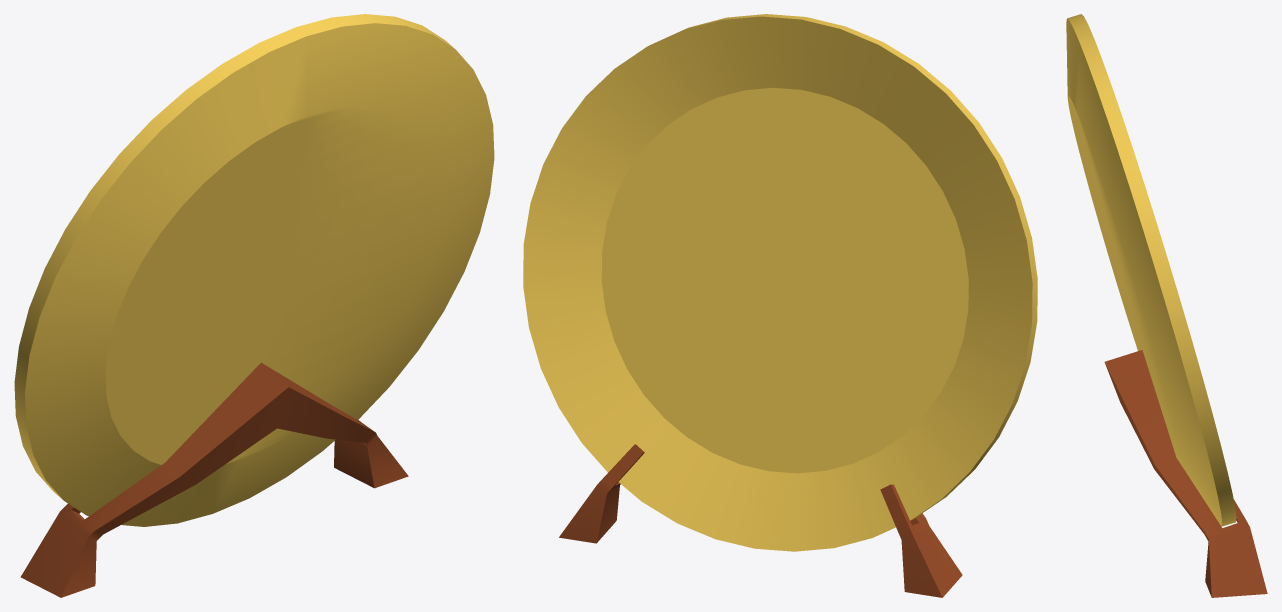
Rendered from Award_3.fbx.
3 renders of one model, left to right at view 1: azimuth 30°, elevation 25°; view 2: azimuth 150°, elevation 25°; view 3: azimuth 270°, elevation 25°, orthographic. The views are drawn at different scales.
Visible parts, largest first — view 1: Award_3; view 2: Award_3; view 3: Award_3.
Part boxes in pixels (<box>): Award_3: <box>14,14,494,597</box>; Award_3: <box>523,14,1037,597</box>; Award_3: <box>1066,14,1267,597</box>.
Bounding box in the file's own units: 0.2993 × 0.3018 × 0.1145.
